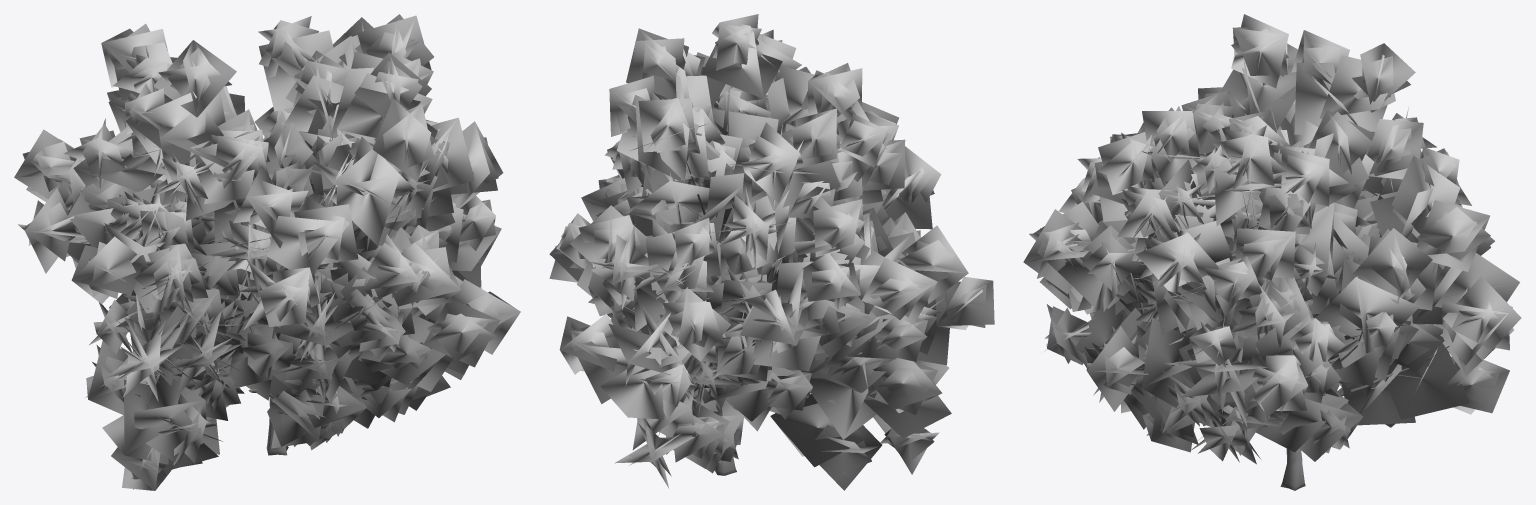
The model's file is MapleBigLeaf_A.fbx.
3 renders of one model, left to right at view 1: azimuth 30°, elevation 25°; view 2: azimuth 150°, elevation 25°; view 3: azimuth 270°, elevation 25°, orthographic. The views are drawn at different scales.
Parts seen in each view (by area): view 1: MapleBigLeaf_A_LOD0; view 2: MapleBigLeaf_A_LOD0; view 3: MapleBigLeaf_A_LOD0.
Part boxes in pixels (x1,y1,x2,y2): MapleBigLeaf_A_LOD0: (14, 14, 520, 490); MapleBigLeaf_A_LOD0: (549, 14, 994, 490); MapleBigLeaf_A_LOD0: (1023, 14, 1521, 490).
Size of the model in its own units: 2673 by 2631 by 2859.
